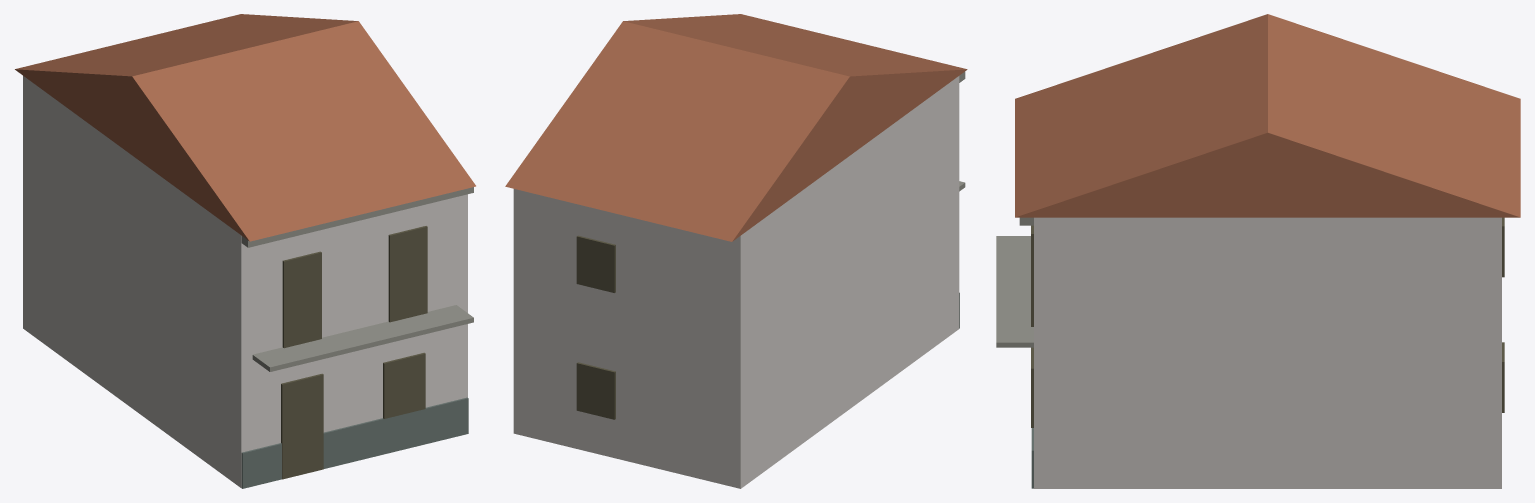
Rendered from SM_casa_pueblo_v5_LOD1.fbx.
3 views of the same model, side by side, from view 1: azimuth 30°, elevation 25°; view 2: azimuth 150°, elevation 25°; view 3: azimuth 270°, elevation 25° (orthographic). The views are drawn at different scales.
Visible parts, largest first — view 1: SM_casa_pueblo_v5_LOD1; view 2: SM_casa_pueblo_v5_LOD1; view 3: SM_casa_pueblo_v5_LOD1.
Boxes of the visible parts, <box> form: SM_casa_pueblo_v5_LOD1: <box>15,14,475,488</box>; SM_casa_pueblo_v5_LOD1: <box>505,14,967,488</box>; SM_casa_pueblo_v5_LOD1: <box>996,14,1520,488</box>.
Size of the model in its own units: 6 by 8.4 by 11.2.
